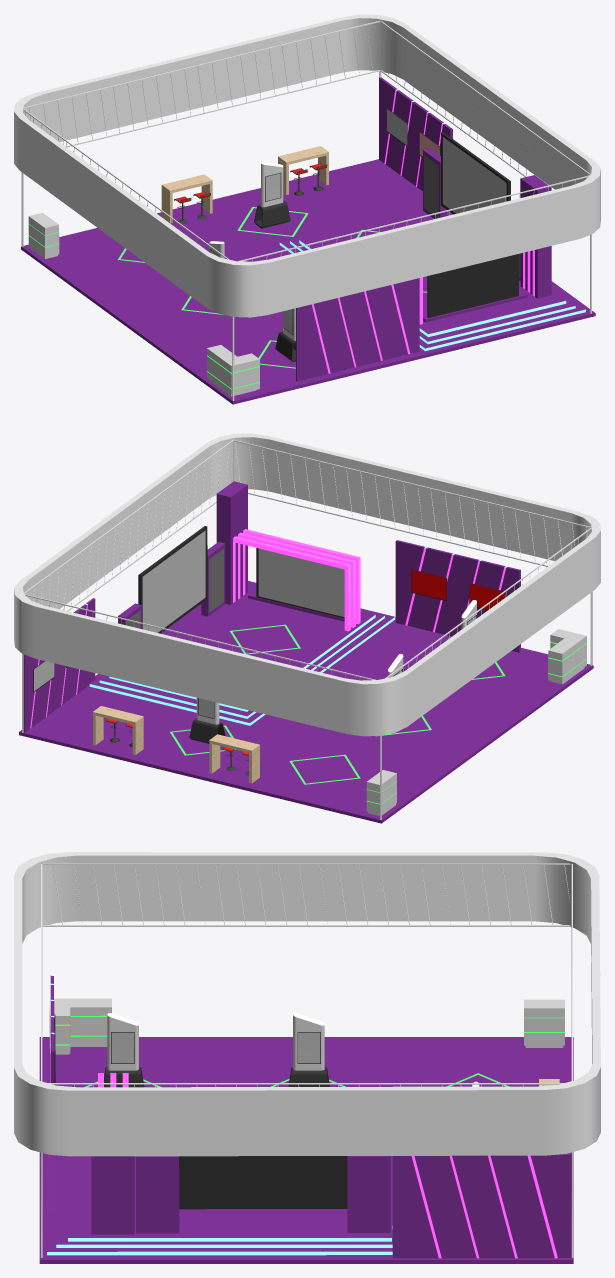
File: MeshBaker (4)-mesh-mesh.fbx
3 renders of one model, top to bottom at view 1: azimuth 30°, elevation 25°; view 2: azimuth 150°, elevation 25°; view 3: azimuth 270°, elevation 25°, orthographic. The views are drawn at different scales.
Parts seen in each view (by area): view 1: MeshBaker__4__mesh_mesh; view 2: MeshBaker__4__mesh_mesh; view 3: MeshBaker__4__mesh_mesh.
Part boxes in pixels (bbox=[...]): MeshBaker__4__mesh_mesh: bbox=[14, 14, 600, 404]; MeshBaker__4__mesh_mesh: bbox=[14, 433, 600, 823]; MeshBaker__4__mesh_mesh: bbox=[14, 852, 600, 1263].
Bounding box in the file's own units: 1606 × 566 × 1669.
